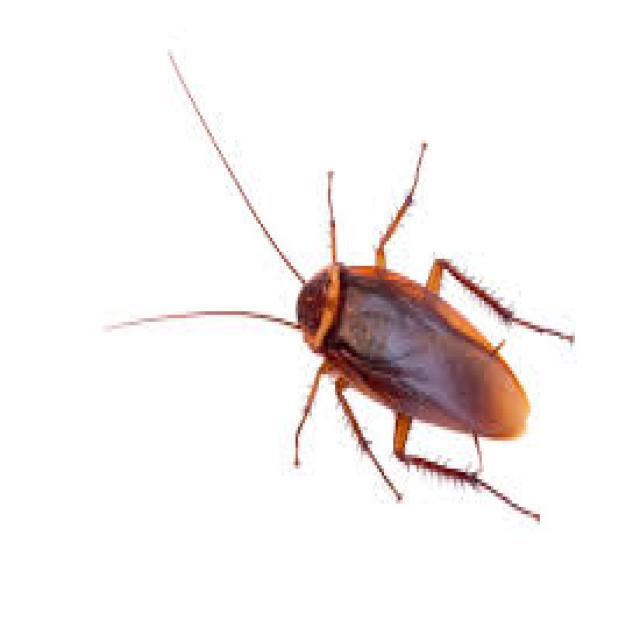Cockroach: (217, 140, 570, 531)
